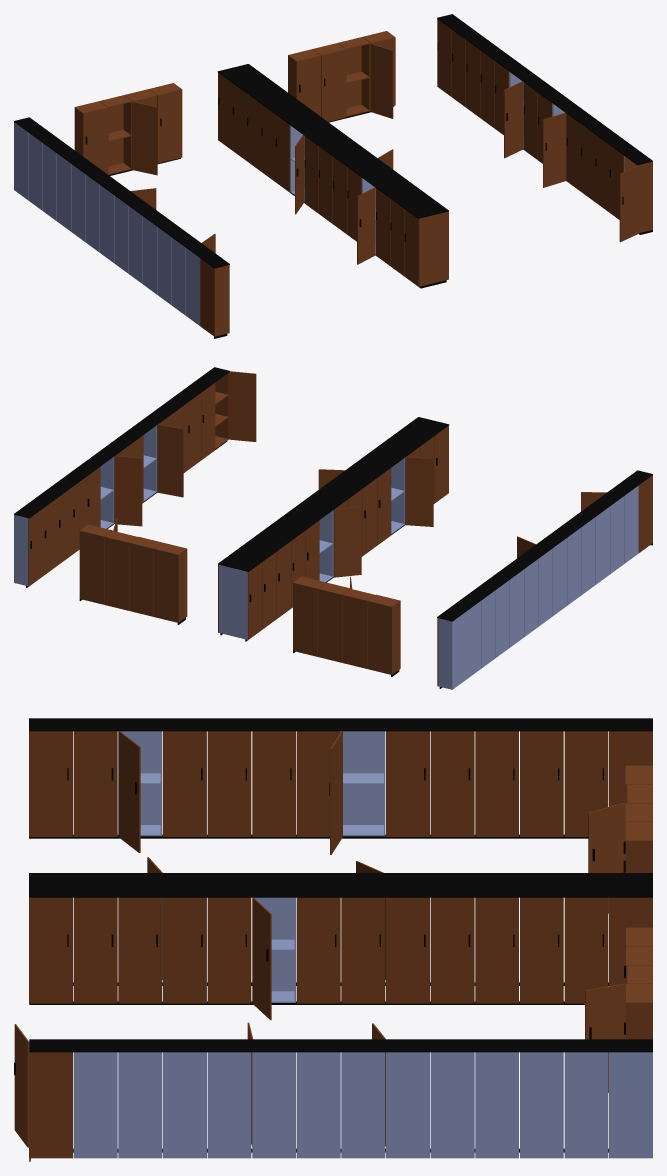
File: wardrobe.fbx
3 renders of one model, top to bottom at view 1: azimuth 30°, elevation 25°; view 2: azimuth 150°, elevation 25°; view 3: azimuth 270°, elevation 25°, orthographic. The views are drawn at different scales.
Parts seen in each view (by area): view 1: Countertop1.001, Countertop1.002, Countertop1, Cabinet1, Cabinet3.004, Cabinet3.003, Cabinet3_Door.003, Cabinet5_Door.003, Cabinet2_Door.004, Cabinet3_Door.004, Cabinet6_Door.002, Cabinet1_Door.002 (+47 smaller); view 2: Countertop1.001, Countertop1, Countertop1.002, Cabinet2.003, Cabinet1.003, Cabinet4_Door.001, Cabinet1_Door.002, Cabinet9_Door.002, Cabinet14, Cabinet3.003, Cabinet3.004, Cabinet4.004 (+42 smaller); view 3: Countertop1.001, Countertop1, Countertop1.002, Cabinet2.002, Cabinet3.002, Cabinet7.002, Cabinet8.002, Cabinet10.002, Cabinet5.002, Cabinet13.002, Cabinet16_Door, Cabinet21_Door (+43 smaller).
Boxes of the visible parts, x1=… form: Countertop1.001: x1=217, y1=64, x2=448, y2=218; Countertop1.002: x1=437, y1=14, x2=652, y2=165; Countertop1: x1=14, y1=117, x2=229, y2=268; Cabinet1: x1=200, y1=258, x2=228, y2=336; Cabinet3.004: x1=338, y1=37, x2=370, y2=116; Cabinet3.003: x1=99, y1=95, x2=131, y2=174; Cabinet3_Door.003: x1=132, y1=101, x2=157, y2=175; Cabinet5_Door.003: x1=157, y1=89, x2=182, y2=163; Cabinet2_Door.004: x1=321, y1=49, x2=345, y2=121; Cabinet3_Door.004: x1=370, y1=43, x2=393, y2=118; Cabinet6_Door.002: x1=543, y1=112, x2=566, y2=187; Cabinet1_Door.002: x1=619, y1=165, x2=639, y2=242; Countertop1.001: x1=218, y1=417, x2=449, y2=571; Countertop1: x1=437, y1=470, x2=652, y2=621; Countertop1.002: x1=14, y1=367, x2=229, y2=518; Cabinet2.003: x1=367, y1=595, x2=399, y2=674; Cabinet1.003: x1=154, y1=543, x2=186, y2=622; Cabinet4_Door.001: x1=405, y1=456, x2=433, y2=526; Cabinet1_Door.002: x1=228, y1=371, x2=256, y2=441; Cabinet9_Door.002: x1=114, y1=455, x2=142, y2=526; Cabinet14: x1=438, y1=611, x2=466, y2=689; Cabinet3.003: x1=342, y1=589, x2=374, y2=668; Cabinet3.004: x1=104, y1=531, x2=136, y2=610; Cabinet4.004: x1=79, y1=525, x2=111, y2=604; Countertop1.001: x1=29, y1=873, x2=652, y2=897; Countertop1: x1=29, y1=718, x2=652, y2=731; Countertop1.002: x1=29, y1=1039, x2=652, y2=1052; Cabinet2.002: x1=73, y1=1052, x2=117, y2=1158; Cabinet3.002: x1=118, y1=1052, x2=162, y2=1158; Cabinet7.002: x1=296, y1=1052, x2=340, y2=1158; Cabinet8.002: x1=341, y1=1052, x2=385, y2=1158; Cabinet10.002: x1=430, y1=1052, x2=474, y2=1158; Cabinet5.002: x1=207, y1=1052, x2=251, y2=1158; Cabinet13.002: x1=564, y1=1052, x2=608, y2=1158; Cabinet16_Door: x1=73, y1=897, x2=117, y2=1003; Cabinet21_Door: x1=296, y1=897, x2=340, y2=1003.
Bounding box in the file's own units: 1077 × 167 × 874.
